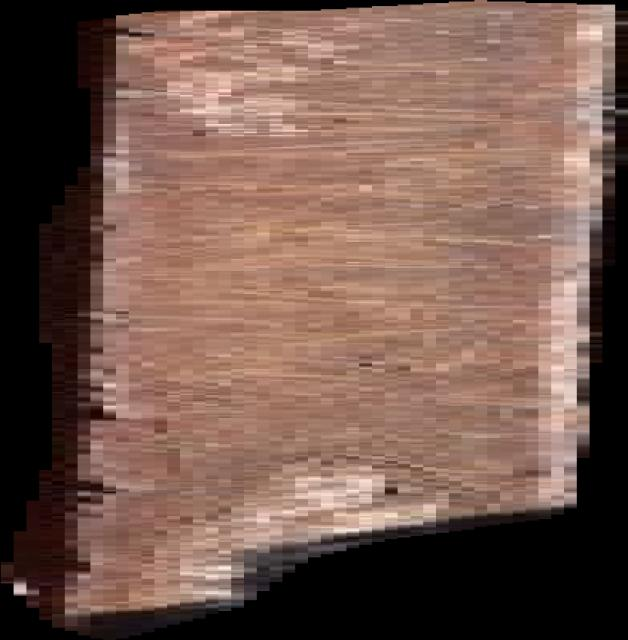Uniform Corrosion: (1, 0, 628, 640)
